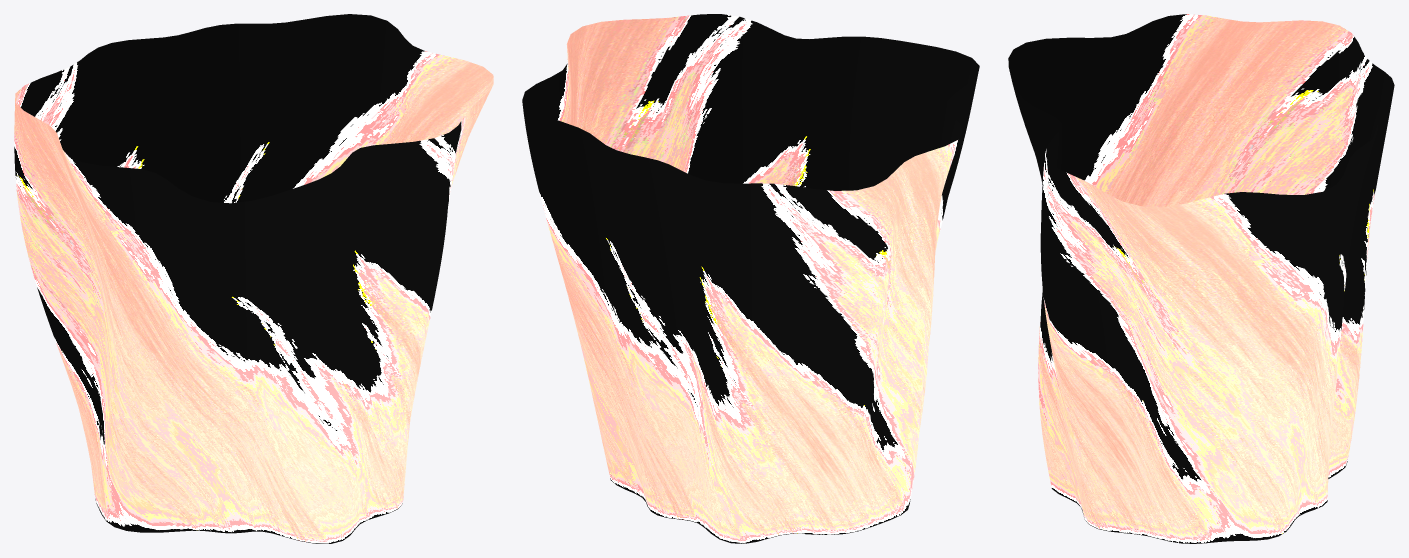
Rendered from devil_outer_3.glb.
3 renders of one model, left to right at view 1: azimuth 30°, elevation 25°; view 2: azimuth 150°, elevation 25°; view 3: azimuth 270°, elevation 25°, orthographic.
Visible parts, largest first — view 1: devil_outer_3; view 2: devil_outer_3; view 3: devil_outer_3.
Boxes of the visible parts, left/top/right/bottom form: devil_outer_3: left=14, top=14, right=493, bottom=543; devil_outer_3: left=522, top=14, right=979, bottom=543; devil_outer_3: left=1008, top=14, right=1394, bottom=543.
Size of the model in its own units: 21.08 by 19.2 by 17.83.
Materials: 1 (1 with a texture image).
